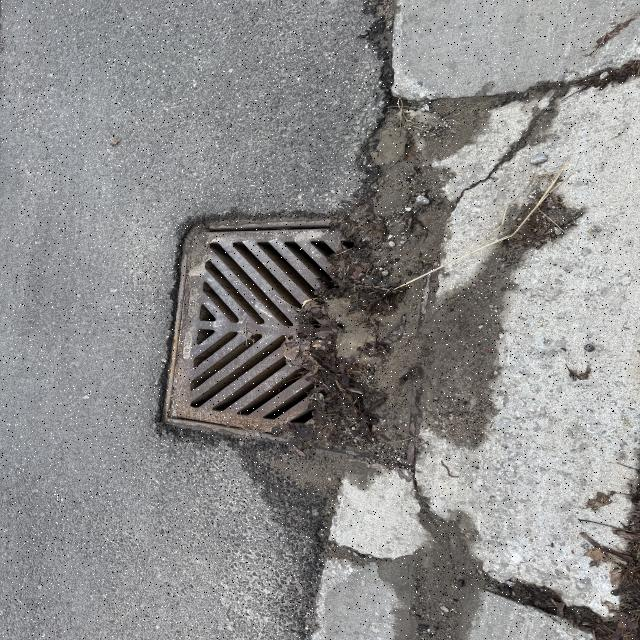Manhole: (160, 216, 404, 444)
